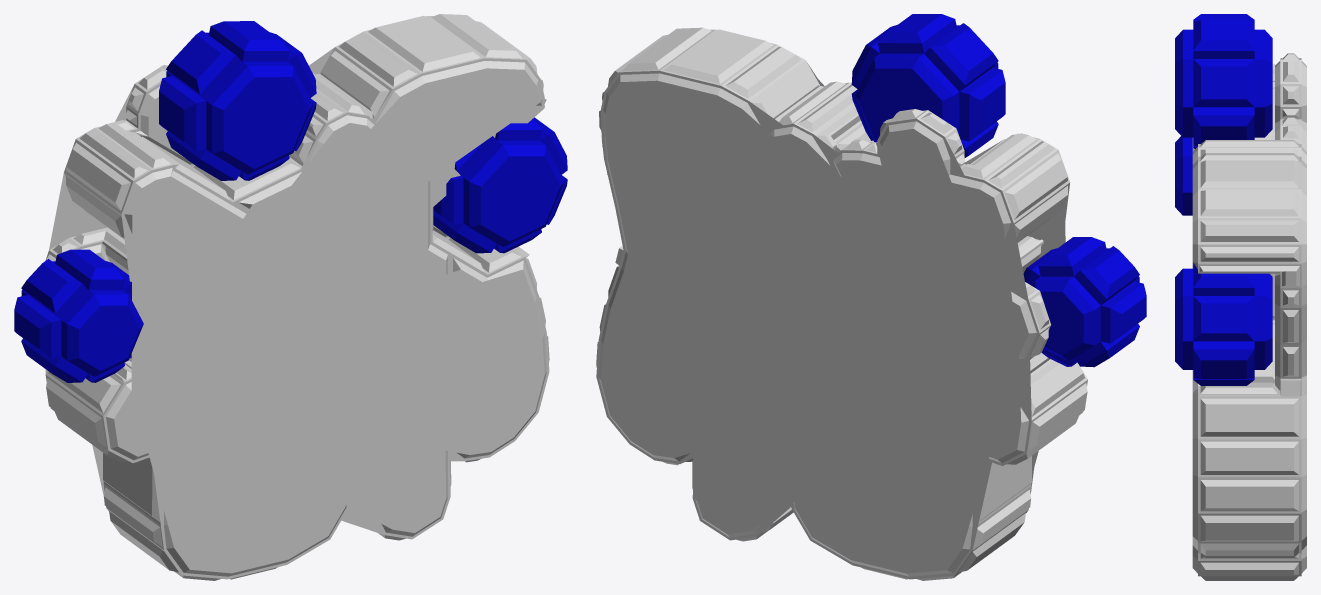
Rendered from Ch_China_都_01.fbx.
3 views of the same model, side by side, from view 1: azimuth 30°, elevation 25°; view 2: azimuth 150°, elevation 25°; view 3: azimuth 270°, elevation 25° (orthographic). The views are drawn at different scales.
Parts seen in each view (by area): view 1: sphere1; view 2: sphere1; view 3: sphere1.
Boxes of the visible parts, left/top/right/bottom form: sphere1: left=14, top=14, right=567, bottom=580; sphere1: left=596, top=14, right=1146, bottom=580; sphere1: left=1175, top=14, right=1306, bottom=580.
Size of the model in its own units: 1.05 by 1.03 by 0.2541.
